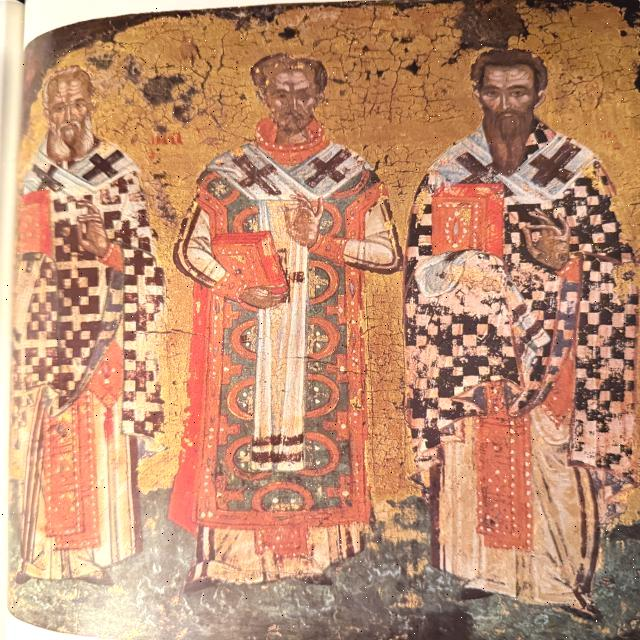book: (426, 178, 510, 259), (198, 231, 295, 299), (6, 187, 64, 262)
christ_hand: (279, 193, 352, 261), (518, 204, 586, 276), (66, 194, 132, 266)
church_father: (143, 36, 403, 594), (403, 40, 640, 620), (3, 52, 154, 583)
